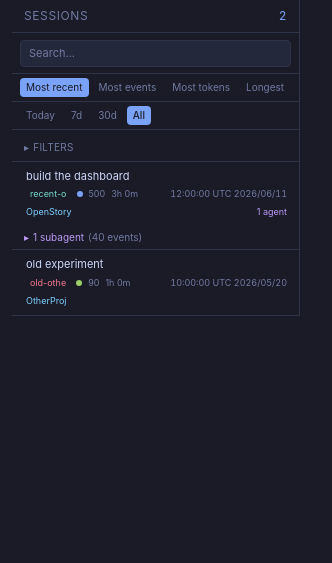
Test case: facet disclosure › should keep facets collapsed by default so the session list stays above the fold
Click the button with test id "facets-toggle": (53, 146) x1=12 y1=138 x2=299 y2=160
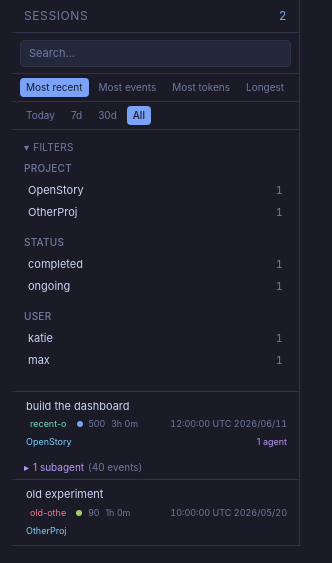
Expected: the button with test id "facet-user-katie" is shown, x1=20 y1=328 x2=291 y2=348
